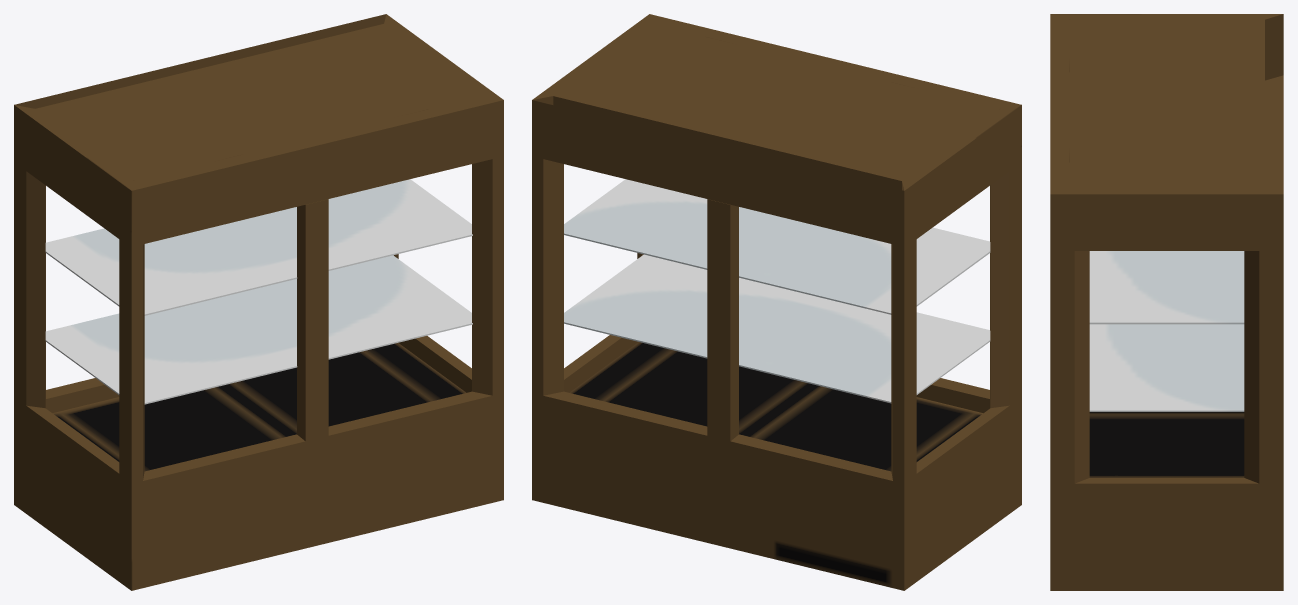
File: GlassCase.obj
The picture shows the model from 3 angles, left to right: view 1: azimuth 30°, elevation 25°; view 2: azimuth 150°, elevation 25°; view 3: azimuth 270°, elevation 25°; orthographic projection.
Parts seen in each view (by area): view 1: GlassCase; view 2: GlassCase; view 3: GlassCase.
Part boxes in pixels (x1,y1,x2,y2): GlassCase: (14,14,503,590); GlassCase: (532,14,1021,590); GlassCase: (1050,14,1283,590).
Size of the model in its own units: 46.67 by 47.91 by 25.52.
Materials: 1 (1 with a texture image).
